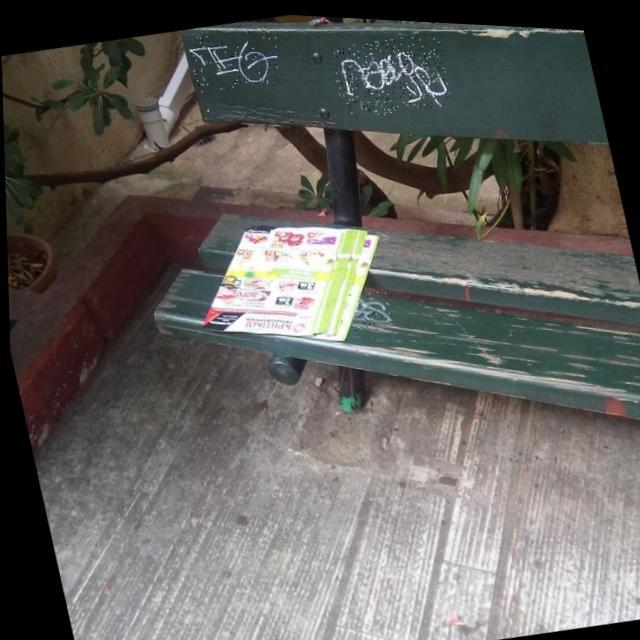-: (328, 23, 454, 122), (185, 20, 287, 94), (342, 282, 393, 330)
